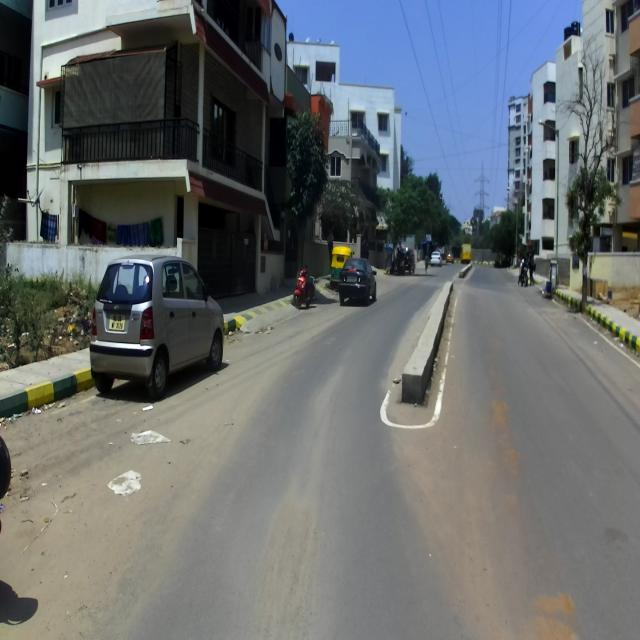car ahead at: (93, 254, 226, 392)
